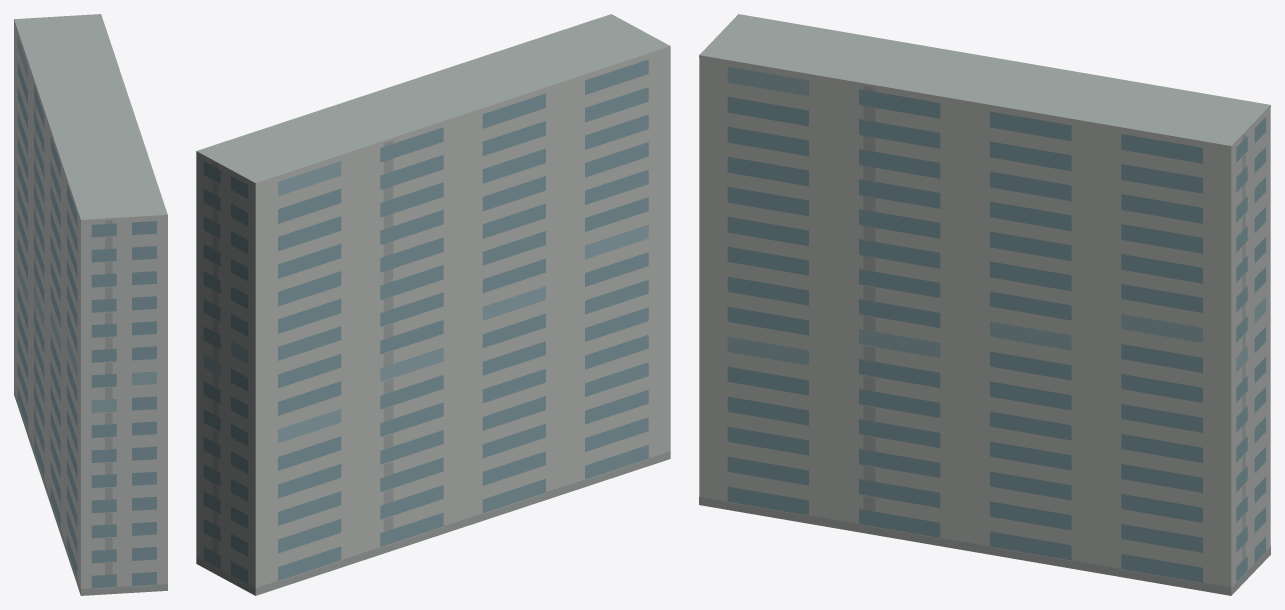
Rendered from residential-a3460c59-a67e-4cb0-82c3-29e3bae23dca.glb.
The picture shows the model from 3 angles, left to right: view 1: azimuth 30°, elevation 25°; view 2: azimuth 150°, elevation 25°; view 3: azimuth 270°, elevation 25°; orthographic projection. The views are drawn at different scales.
Visible parts, largest first — view 1: residential-a3460c59-a67e-4cb0-82c3-29e3bae23dca.tmp; view 2: residential-a3460c59-a67e-4cb0-82c3-29e3bae23dca.tmp; view 3: residential-a3460c59-a67e-4cb0-82c3-29e3bae23dca.tmp.
Boxes of the visible parts, left/top/right/bottom form: residential-a3460c59-a67e-4cb0-82c3-29e3bae23dca.tmp: left=14, top=14, right=167, bottom=595; residential-a3460c59-a67e-4cb0-82c3-29e3bae23dca.tmp: left=196, top=14, right=670, bottom=595; residential-a3460c59-a67e-4cb0-82c3-29e3bae23dca.tmp: left=699, top=14, right=1270, bottom=595.
Size of the model in its own units: 28.81 by 45.75 by 52.7.
